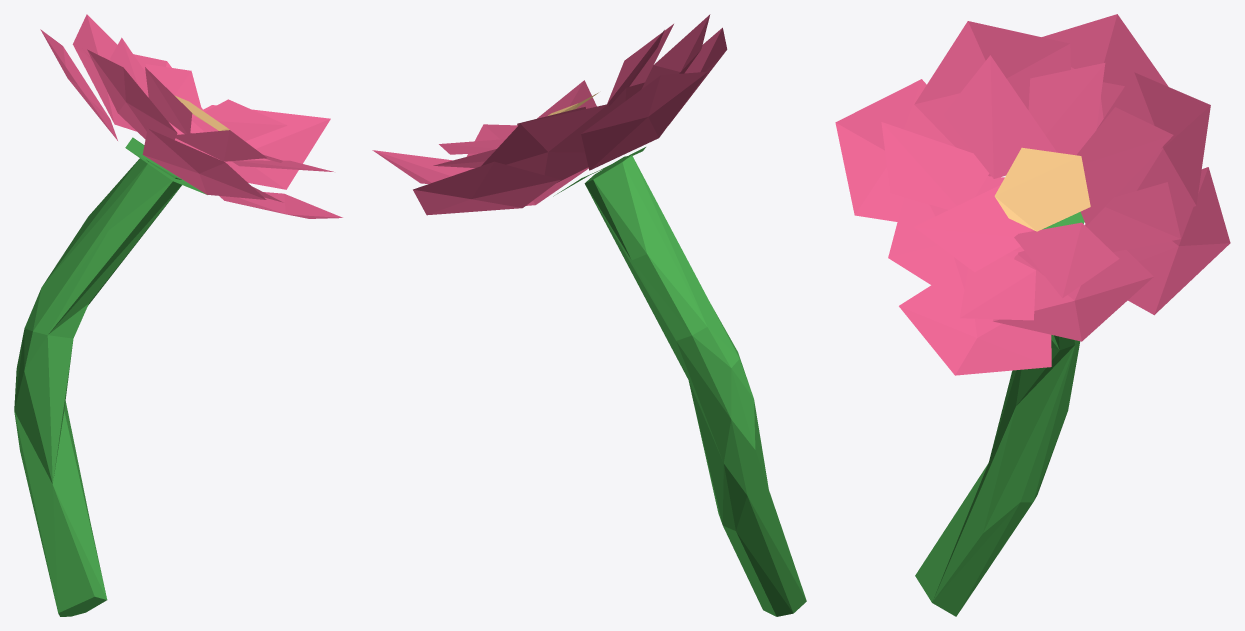
The model's file is plant_lotus_1.glb.
The picture shows the model from 3 angles, left to right: view 1: azimuth 30°, elevation 25°; view 2: azimuth 150°, elevation 25°; view 3: azimuth 270°, elevation 25°; orthographic projection. The views are drawn at different scales.
Parts seen in each view (by area): view 1: plant_lotus_1; view 2: plant_lotus_1; view 3: plant_lotus_1.
Part boxes in pixels (left/top/right/bottom): plant_lotus_1: left=14, top=14, right=342, bottom=616; plant_lotus_1: left=372, top=14, right=806, bottom=616; plant_lotus_1: left=835, top=14, right=1230, bottom=616.
Size of the model in its own units: 0.6607 by 1.01 by 0.5822.
